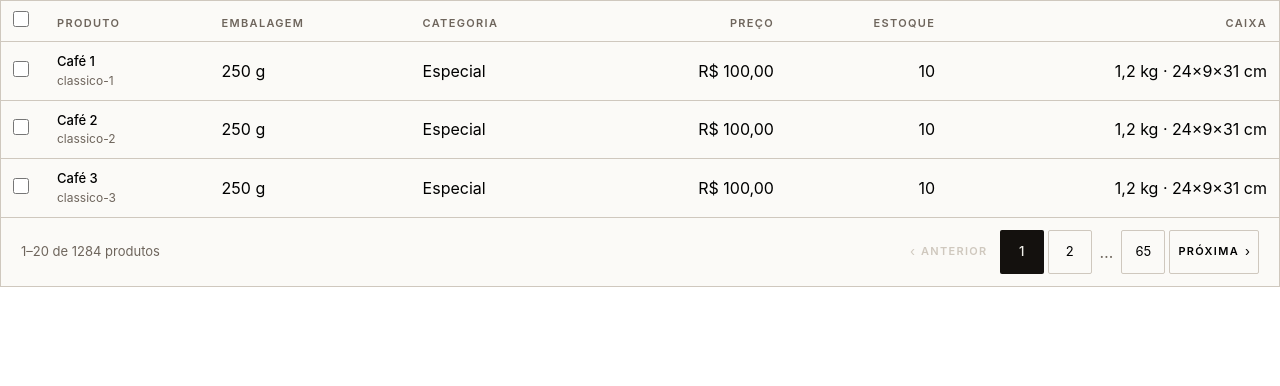
Test: a seleção em massa — R25 › a caixa do cabeçalho marca os desta página
Click the checkbox named "Marcar os 3 produtos desta página" at {"x": 21, "y": 19}, box [13,11,29,27]
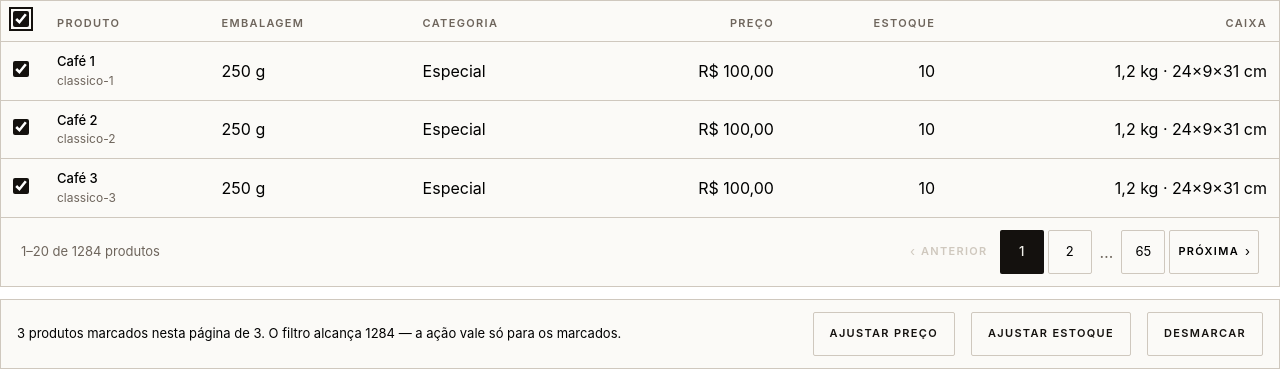
expect the text "3 produtos marcados nesta página de 3" is shown: met, box [17,325,621,341]
